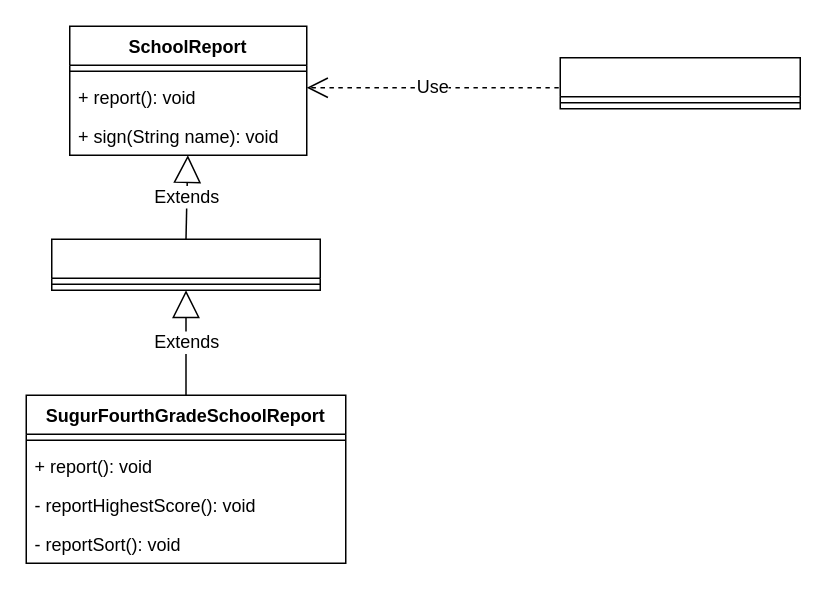
The diagram is 827 pixels wide and 594 high, and some of its shapes have lost their labels. Here are the shapes that lost their labels. From the top down, the centre of each, then its label:
At (679,82): "Father".
At (185,264): "FourthGradeSchoolReport".
